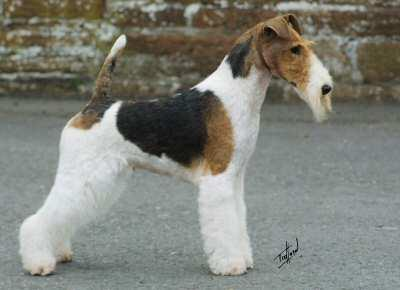wire-haired_fox_terrier: (18, 10, 336, 278)
